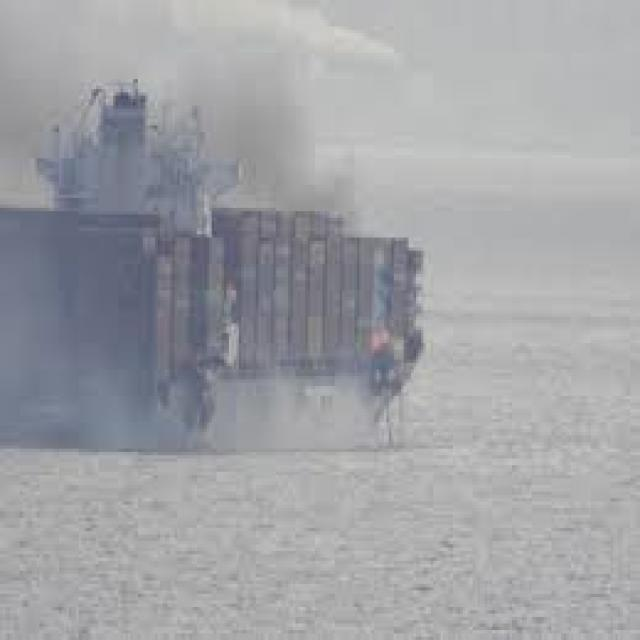cargoship: (0, 66, 431, 452)
